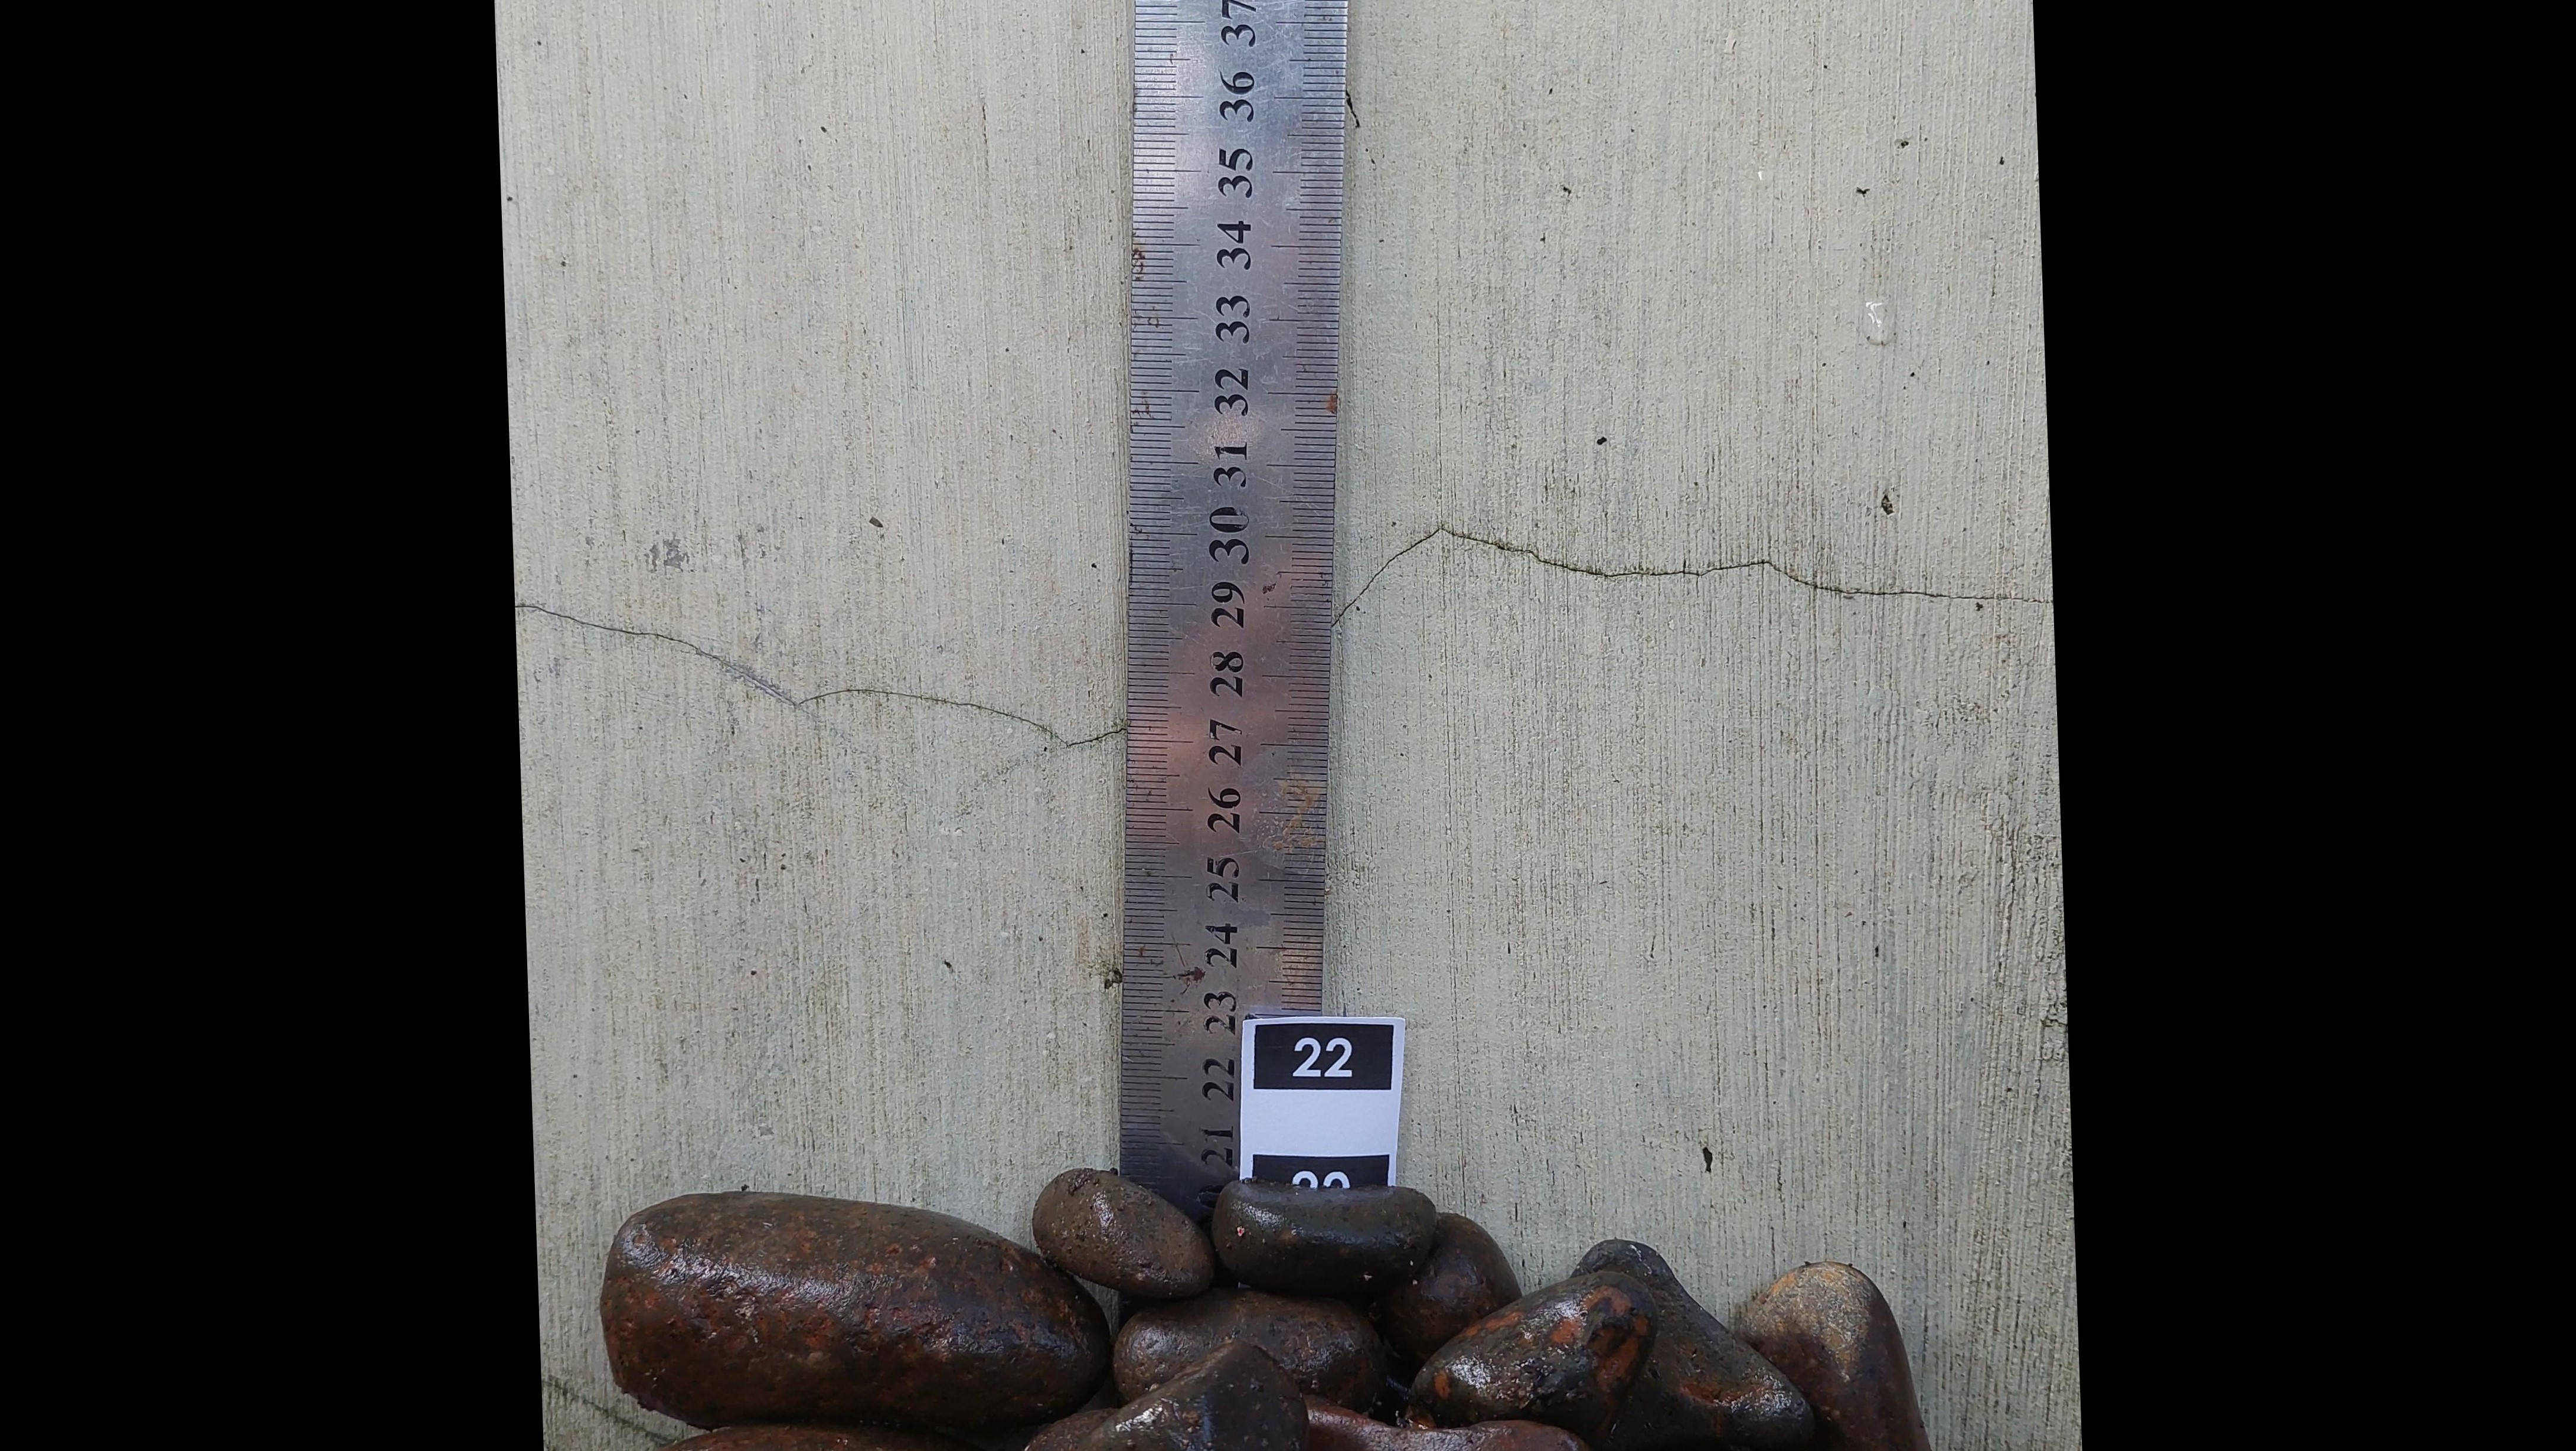kotak_2x1: (1253, 1025, 1392, 1090)
